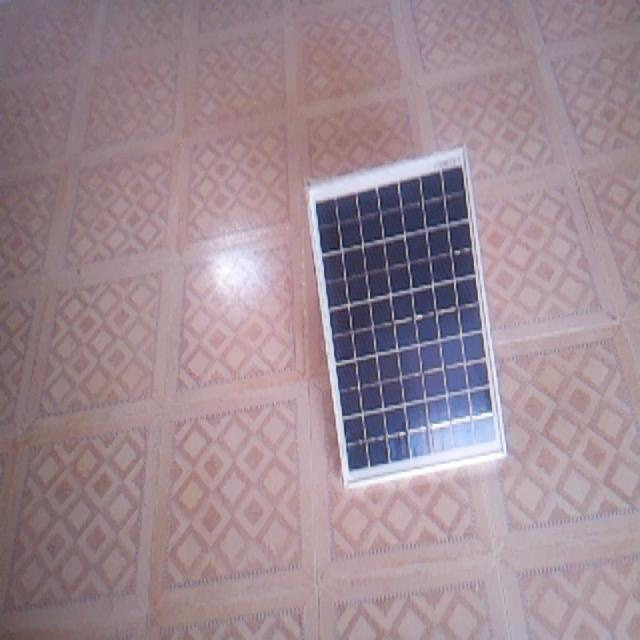Normal Solar Panel: (309, 145, 506, 487)
